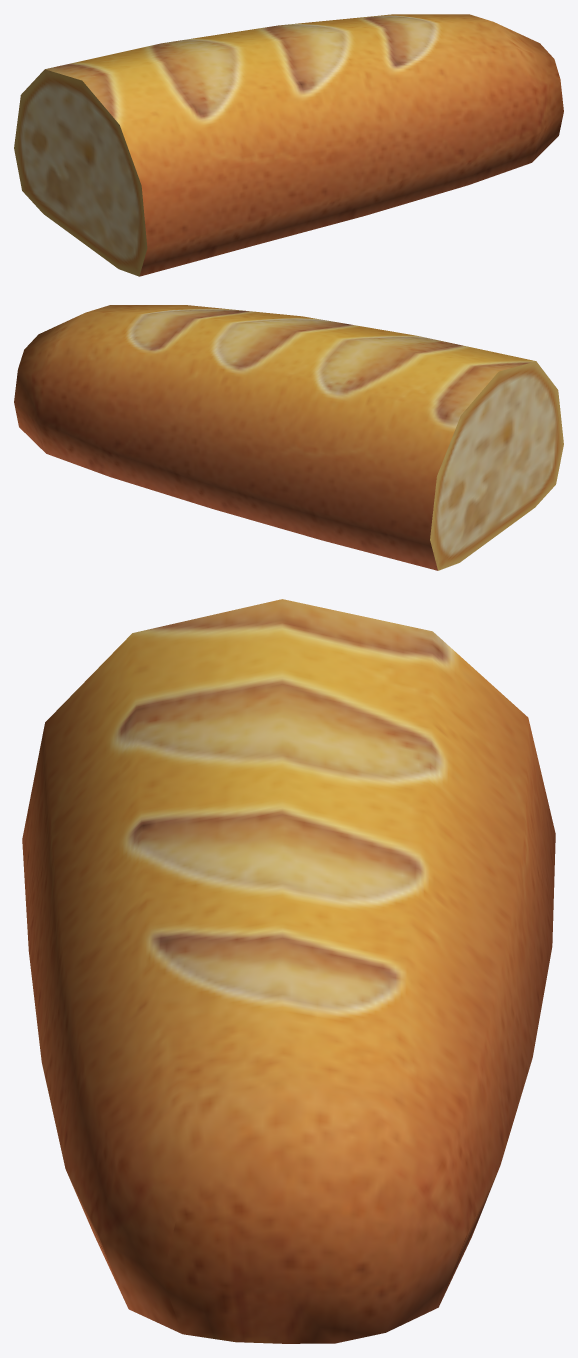
The model's file is SE_Baguette_02.fbx.
3 views of the same model, one above another, from view 1: azimuth 30°, elevation 25°; view 2: azimuth 150°, elevation 25°; view 3: azimuth 270°, elevation 25° (orthographic). The views are drawn at different scales.
Parts seen in each view (by area): view 1: SE_Baguette_02; view 2: SE_Baguette_02; view 3: SE_Baguette_02.
Boxes of the visible parts, box(x1,y1,x2,y2) form: SE_Baguette_02: box(14, 14, 563, 276); SE_Baguette_02: box(14, 305, 563, 570); SE_Baguette_02: box(22, 599, 555, 1343).
Size of the model in its own units: 1.99 by 0.66 by 0.9853.
